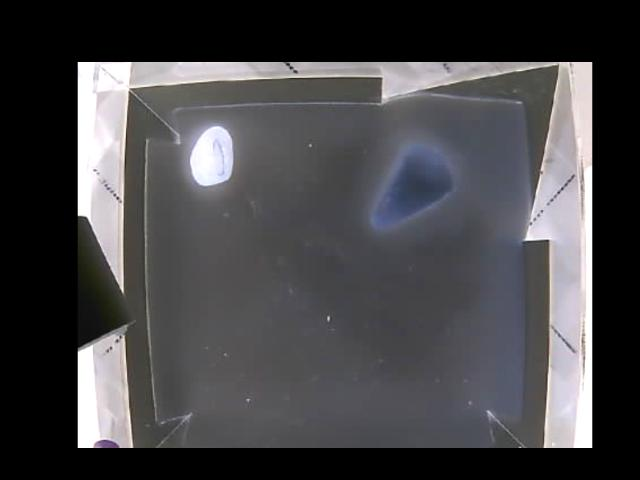Mooli: (370, 143, 455, 232)
Pebble: (189, 128, 235, 186)
